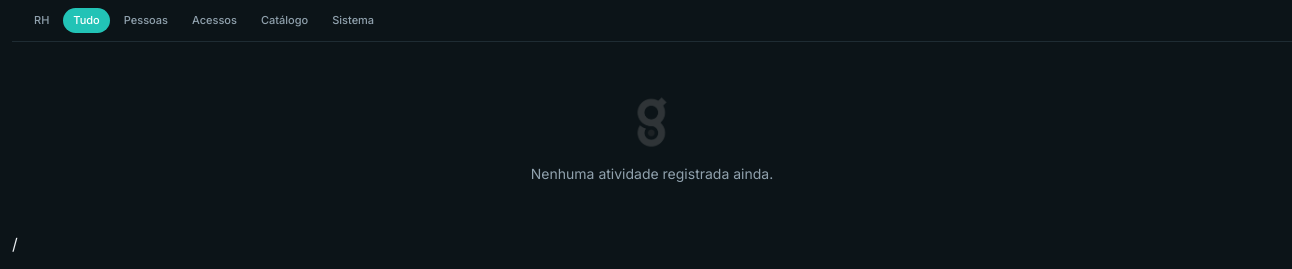
it: Individual activity fixtures (not production data) › sends category filters to the RPC and keeps errors distinct from empty
Expected: the text "Nenhuma atividade registrada ainda." is shown, [531,164,773,184]
Click the button "Pessoas".
click(146, 20)  # box [114,8,178,32]
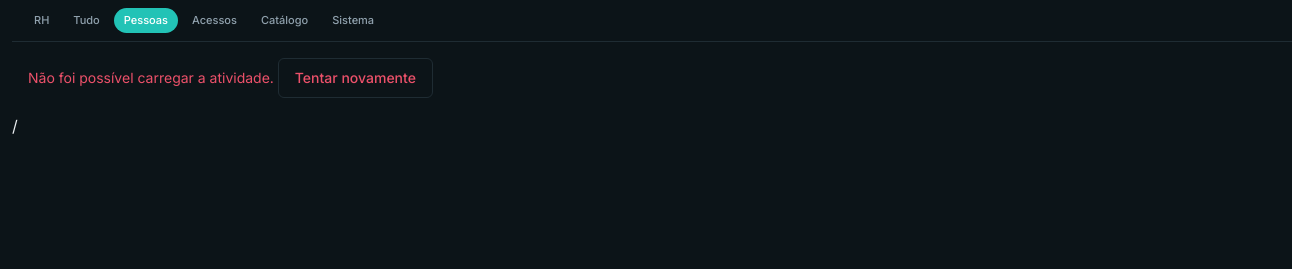
Expected: the message shows "Não foi possível carregar", [28,68,278,86]
Expected: the text "Nenhuma atividade registrada ainda." is gone
